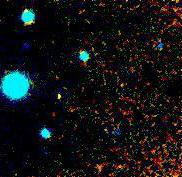star: (45, 79, 75, 109)
